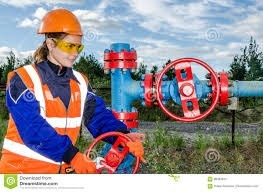helmet: (35, 8, 85, 36)
person with full safety: (1, 7, 97, 172)
safety vest: (9, 65, 86, 169)
